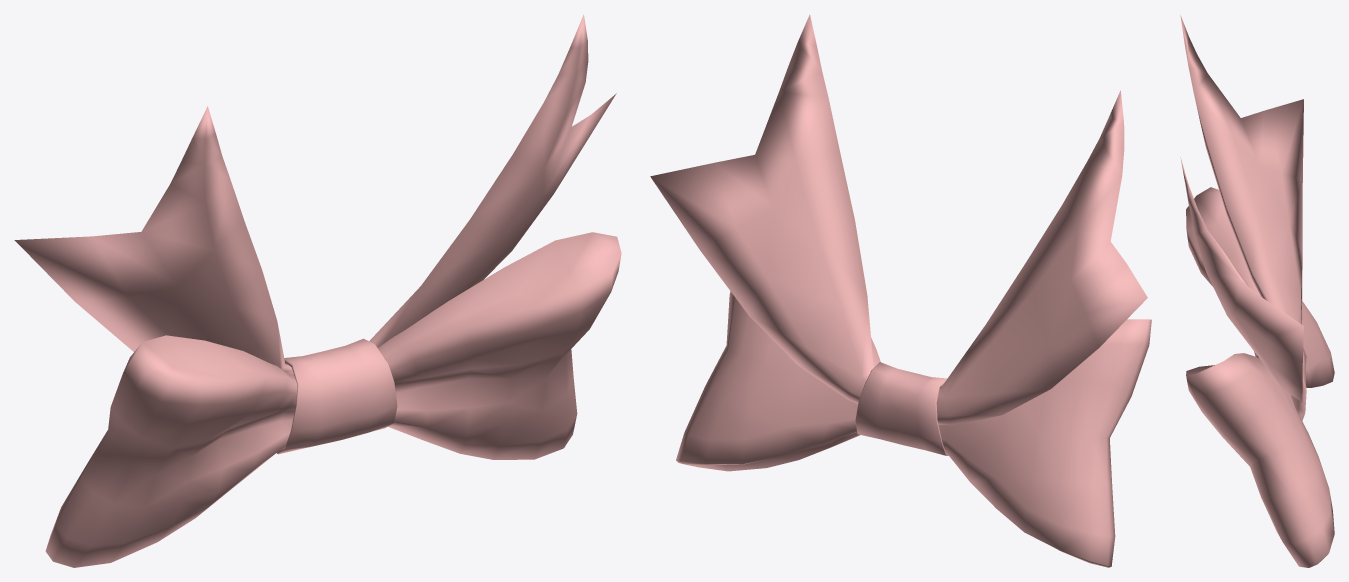
File: atama_ribbon_big.dae
3 renders of one model, left to right at view 1: azimuth 30°, elevation 25°; view 2: azimuth 150°, elevation 25°; view 3: azimuth 270°, elevation 25°, orthographic. The views are drawn at different scales.
Visible parts, largest first — view 1: o_head_ribbonB_0; view 2: o_head_ribbonB_0; view 3: o_head_ribbonB_0.
Part boxes in pixels (<box>): o_head_ribbonB_0: <box>14,14,621,567</box>; o_head_ribbonB_0: <box>650,14,1151,567</box>; o_head_ribbonB_0: <box>1180,15,1334,567</box>.
Bounding box in the file's own units: 0.3034 × 0.0873 × 0.2431.
